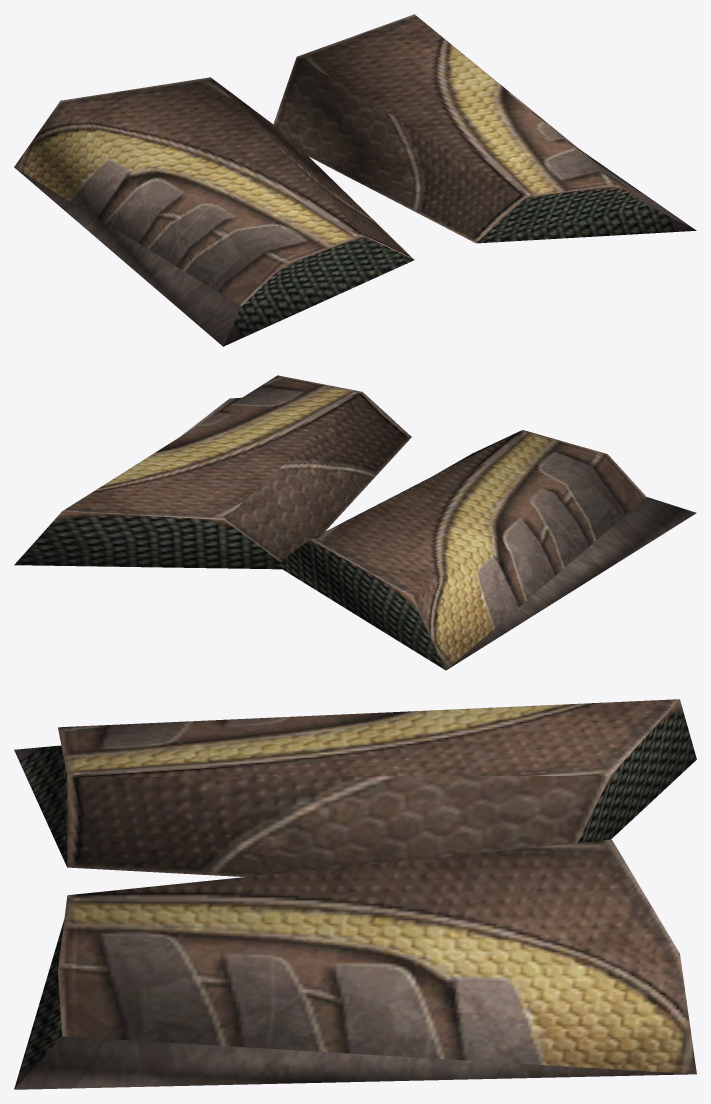
The model's file is LegPads6__CMG.glb.
3 renders of one model, top to bottom at view 1: azimuth 30°, elevation 25°; view 2: azimuth 150°, elevation 25°; view 3: azimuth 270°, elevation 25°, orthographic. The views are drawn at different scales.
Parts seen in each view (by area): view 1: LegPads6; view 2: LegPads6; view 3: LegPads6.
Boxes of the visible parts, x1,y1,x2,y2 form: LegPads6: [14, 14, 696, 346]; LegPads6: [14, 375, 696, 670]; LegPads6: [14, 699, 696, 1089].
Size of the model in its own units: 22.69 by 3.43 by 19.23.
Materials: 1 (1 with a texture image).
